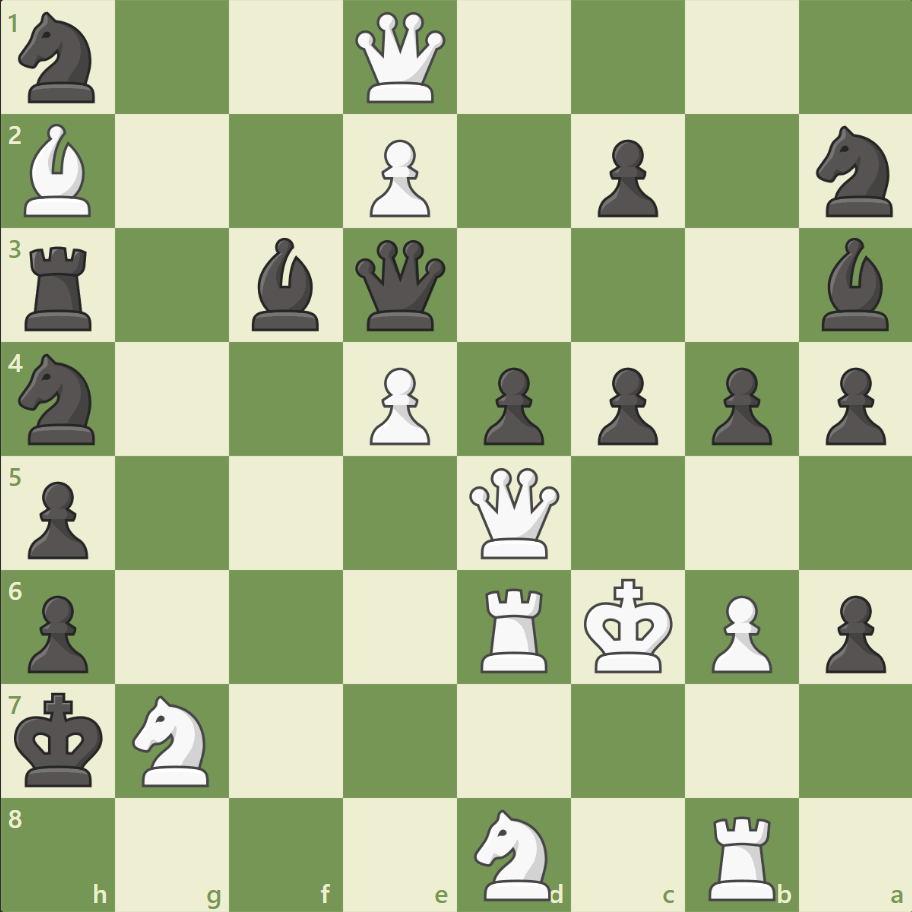B: (17, 120, 101, 222)
K: (579, 571, 679, 679)
N: (124, 688, 222, 791), (465, 802, 562, 904)
P: (701, 586, 776, 677), (361, 359, 435, 450), (361, 132, 435, 223)
Q: (464, 463, 563, 562), (351, 9, 450, 108)
R: (700, 806, 783, 904), (473, 579, 556, 676)
b: (812, 233, 896, 336), (244, 233, 328, 336)
k: (11, 685, 111, 793)
n: (11, 7, 108, 110), (11, 348, 108, 450), (806, 121, 903, 223)
p: (20, 586, 95, 677), (20, 473, 95, 564), (701, 359, 776, 450), (474, 359, 549, 450), (815, 586, 889, 677), (815, 359, 889, 450), (588, 359, 662, 450), (588, 132, 662, 223)
q: (351, 236, 450, 335)
r: (19, 239, 102, 336)
